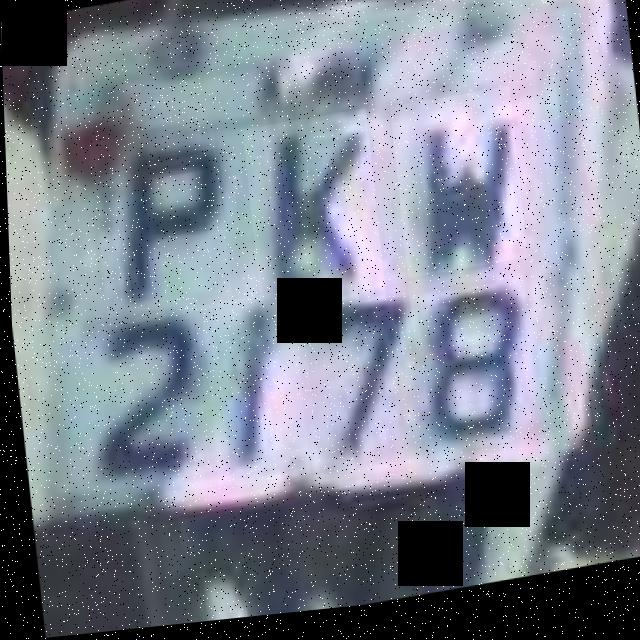1: (197, 293, 315, 493)
2: (58, 307, 227, 507)
7: (290, 290, 422, 483)
8: (400, 256, 544, 475)
K: (240, 115, 383, 326)
P: (87, 125, 230, 329)
W: (388, 95, 525, 287)
